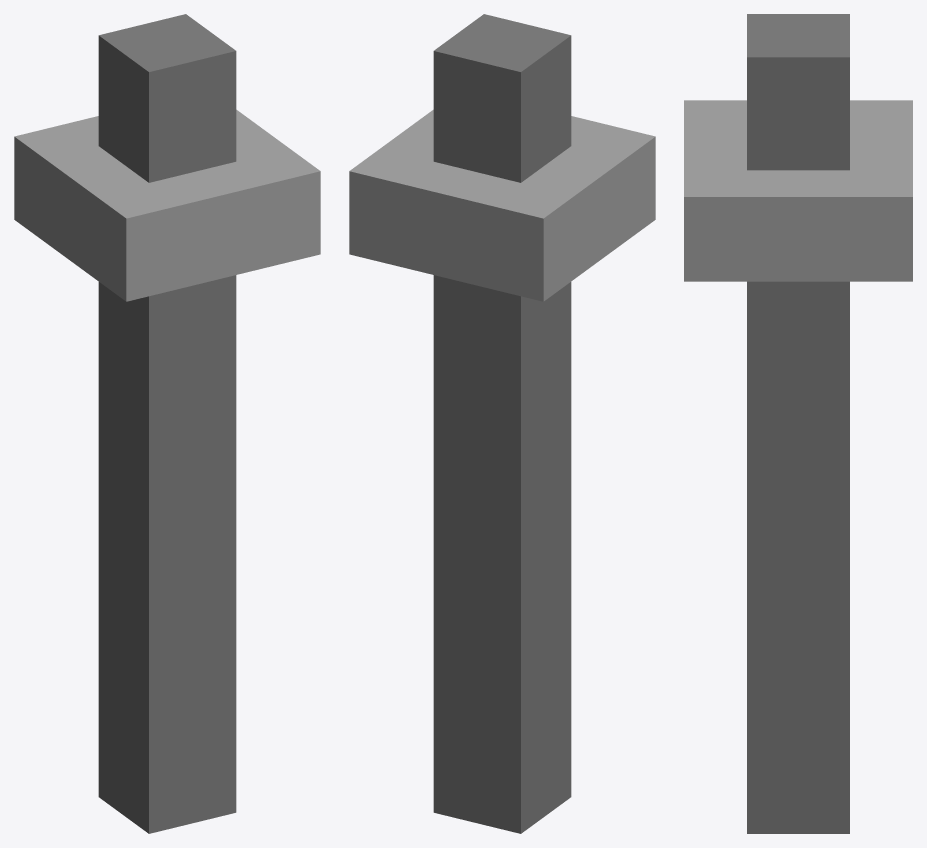
The picture shows the model from 3 angles, left to right: view 1: azimuth 30°, elevation 25°; view 2: azimuth 150°, elevation 25°; view 3: azimuth 270°, elevation 25°; orthographic projection.
Visible parts, largest first — view 1: MD017; view 2: MD017; view 3: MD017.
Part boxes in pixels (<box>): MD017: <box>14,14,320,833</box>; MD017: <box>349,14,655,833</box>; MD017: <box>684,14,912,833</box>.
Size of the model in its own units: 667 by 2500 by 667.
2 materials, 1 textured.
